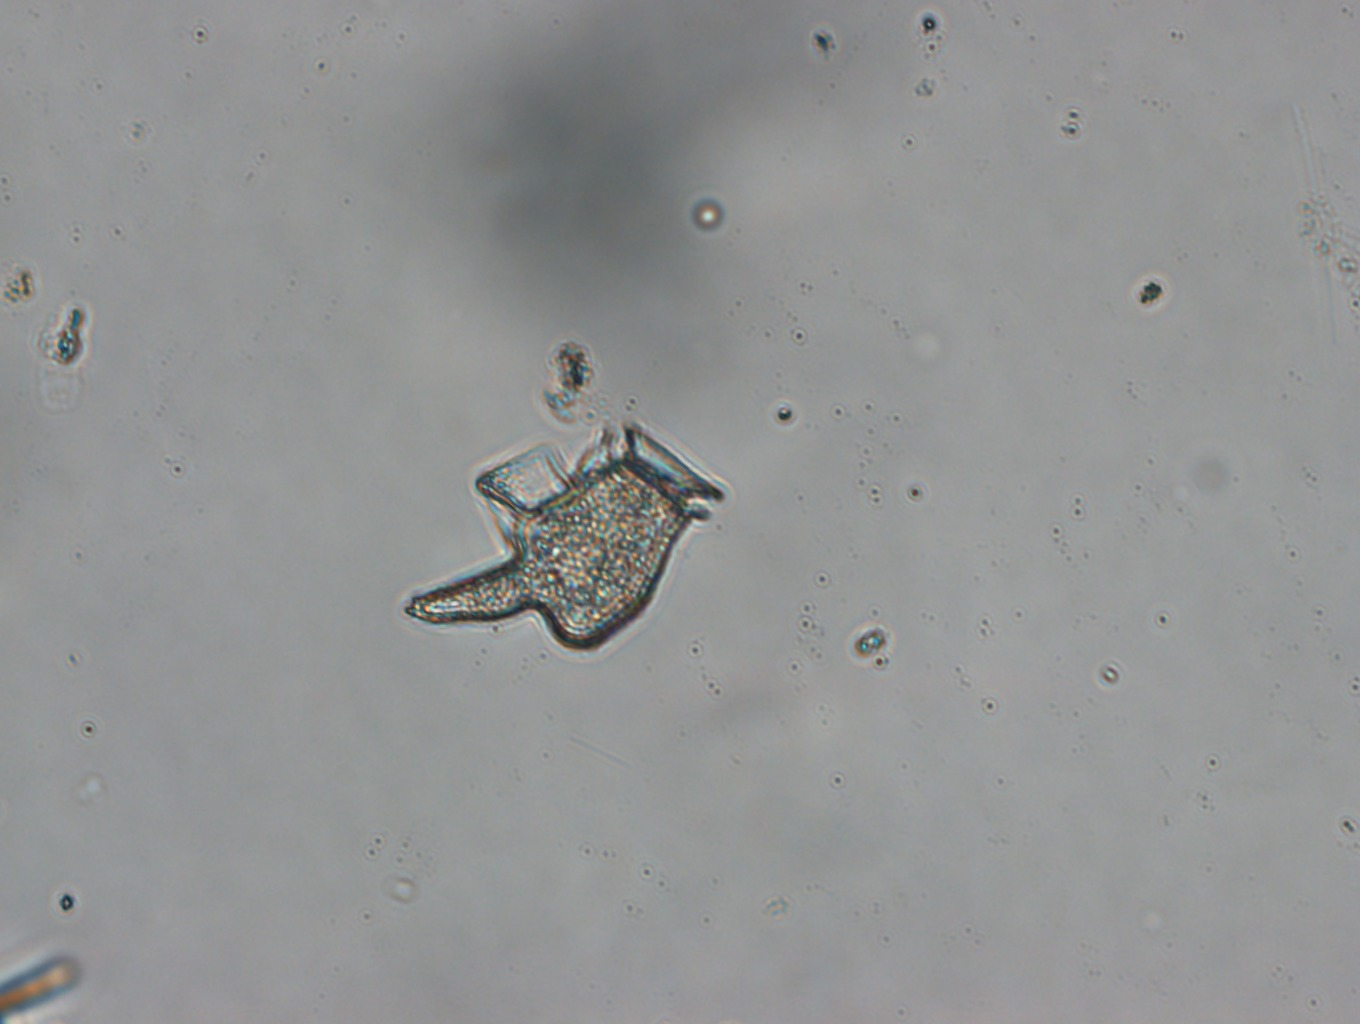dinophysis caudata: (402, 416, 726, 653)
